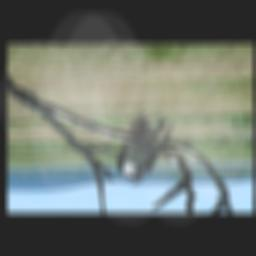Swallow: (115, 110, 177, 187)
